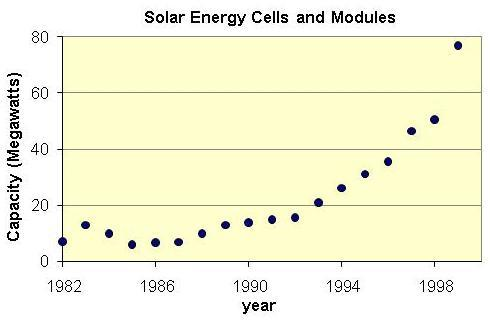axis: (55, 258, 484, 268), (54, 31, 65, 270)
point: (79, 218, 93, 232), (312, 195, 326, 209), (56, 234, 69, 249), (149, 237, 164, 250), (242, 216, 257, 229), (170, 237, 186, 249), (220, 218, 232, 234), (403, 125, 419, 137), (266, 213, 280, 226), (382, 156, 396, 169), (428, 113, 442, 126), (451, 40, 465, 53), (126, 237, 139, 250), (289, 211, 302, 224), (359, 168, 372, 181), (103, 228, 117, 240), (195, 227, 209, 239), (335, 182, 348, 193)
